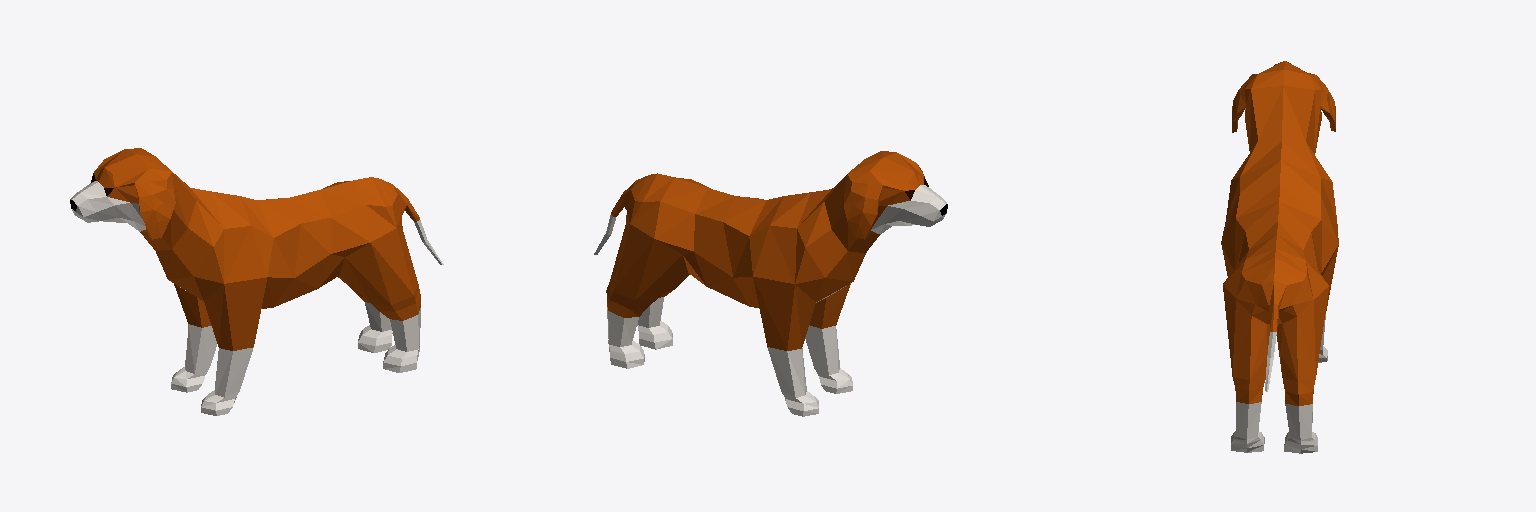
The model's file is Dog.obj.
3 views of the same model, side by side, from view 1: azimuth 30°, elevation 25°; view 2: azimuth 150°, elevation 25°; view 3: azimuth 270°, elevation 25° (orthographic).
Parts seen in each view (by area): view 1: Dog; view 2: Dog; view 3: Dog.
Boxes of the visible parts, <box> form: Dog: <box>70,148,443,415</box>; Dog: <box>594,151,947,416</box>; Dog: <box>1221,61,1338,453</box>.
Size of the model in its own units: 32.14 by 21.89 by 9.07.